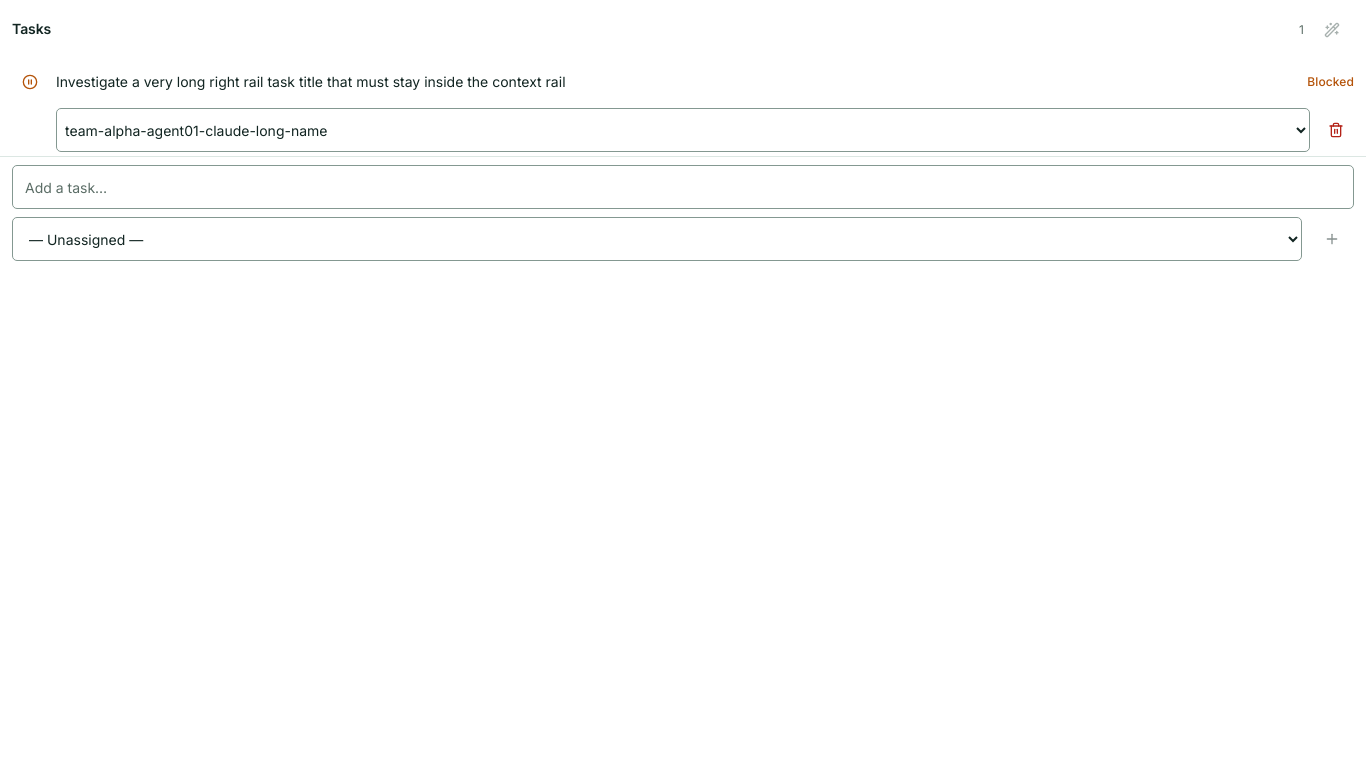
Test case: TasksSection detail dialog › keeps the reason for a blocked task out of the row and shows it in the dialog
Click the button with aria-label "Open Investigate a very long right rail task title that must": x=311, y=82 [56,60,1303,104]
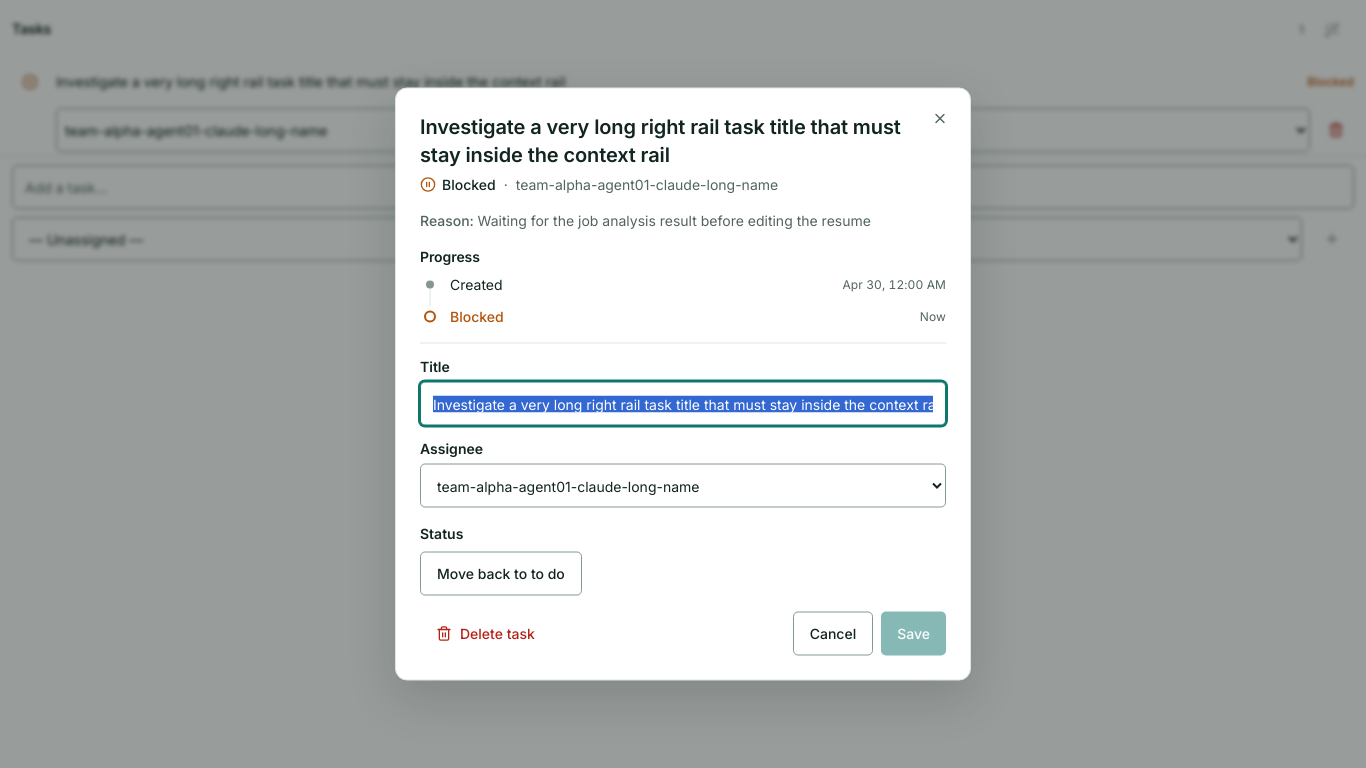
Now the element with test id "right-rail-task-reason-task-1" shows "Waiting for the job analysis result", box [478,212,871,228]
